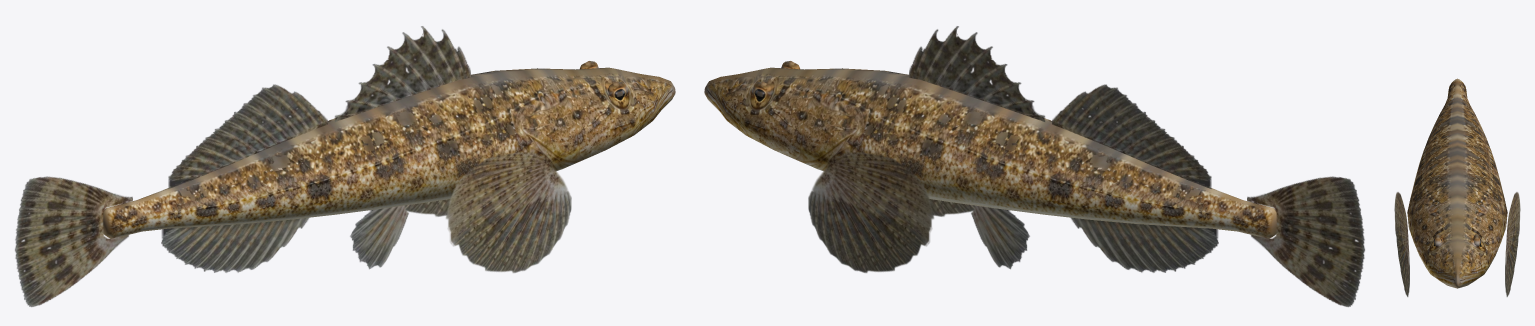
File: magochi_lo.glb
3 views of the same model, side by side, from view 1: azimuth 30°, elevation 25°; view 2: azimuth 150°, elevation 25°; view 3: azimuth 270°, elevation 25° (orthographic). The views are drawn at different scales.
Parts seen in each view (by area): view 1: magochi; view 2: magochi; view 3: magochi.
Part boxes in pixels (x1,y1,x2,y2): magochi: [15, 26, 675, 306]; magochi: [704, 26, 1364, 306]; magochi: [1394, 78, 1520, 296].
Size of the model in its own units: 0.4507 by 0.1526 by 0.1082.
Materials: 1 (1 with a texture image).
